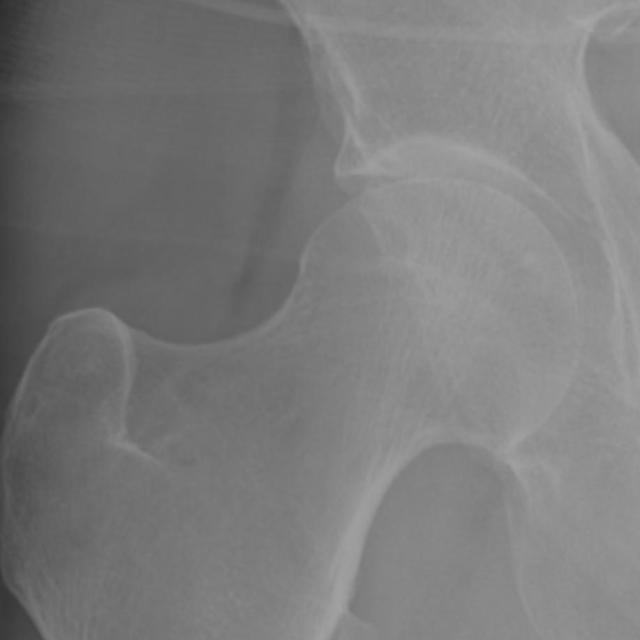Fitted_femural_head: (298, 177, 432, 298)
